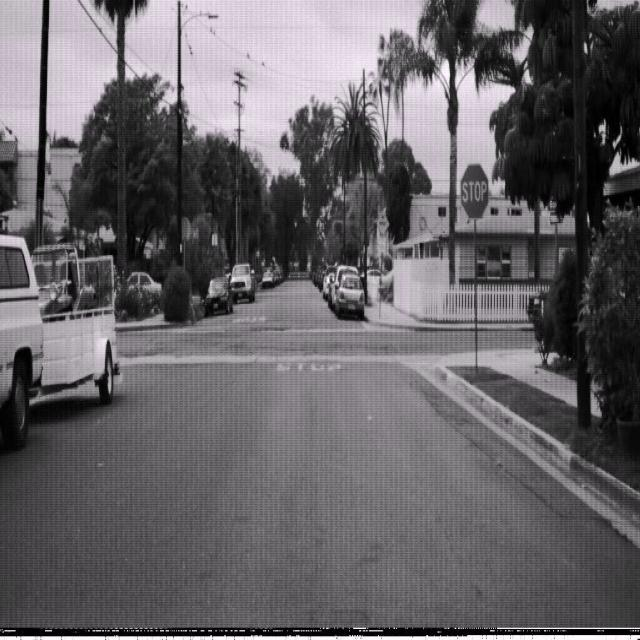stop: (459, 162, 489, 219)
